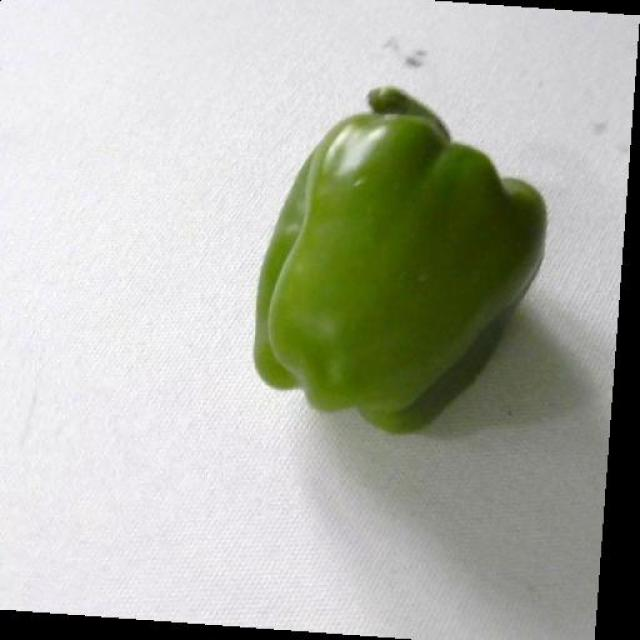Fresh_Capsicum: (238, 59, 532, 428)
